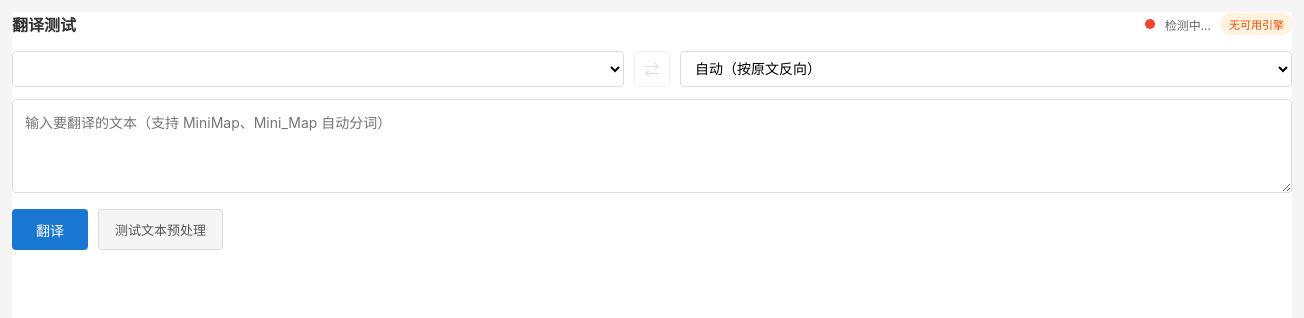
it: TranslatePanel（翻译测试页） › 集成失败路径: 非字符串错误回落通用提示
In the text box with placeholder "输入要翻译的文本（支持 MiniMap、Mini_Map 自动分词）": (652, 146) [12,99,1292,193], type "abc"
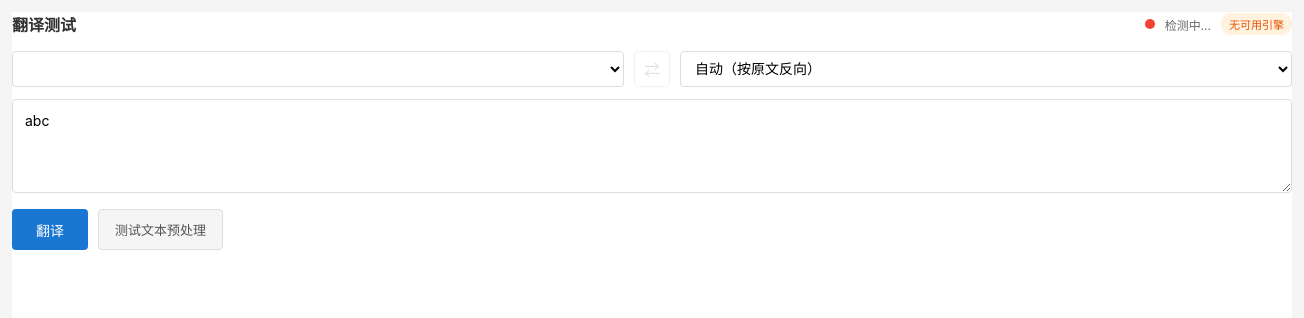
Click the button "翻译": (50, 230) [12,209,88,250]
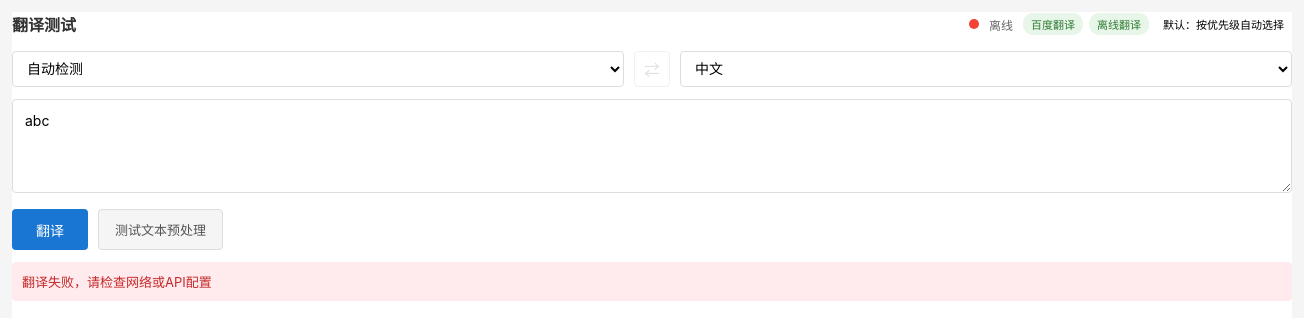
Check: the text "翻译失败，请检查网络或API配置" is shown, box [12,262,1292,301]
